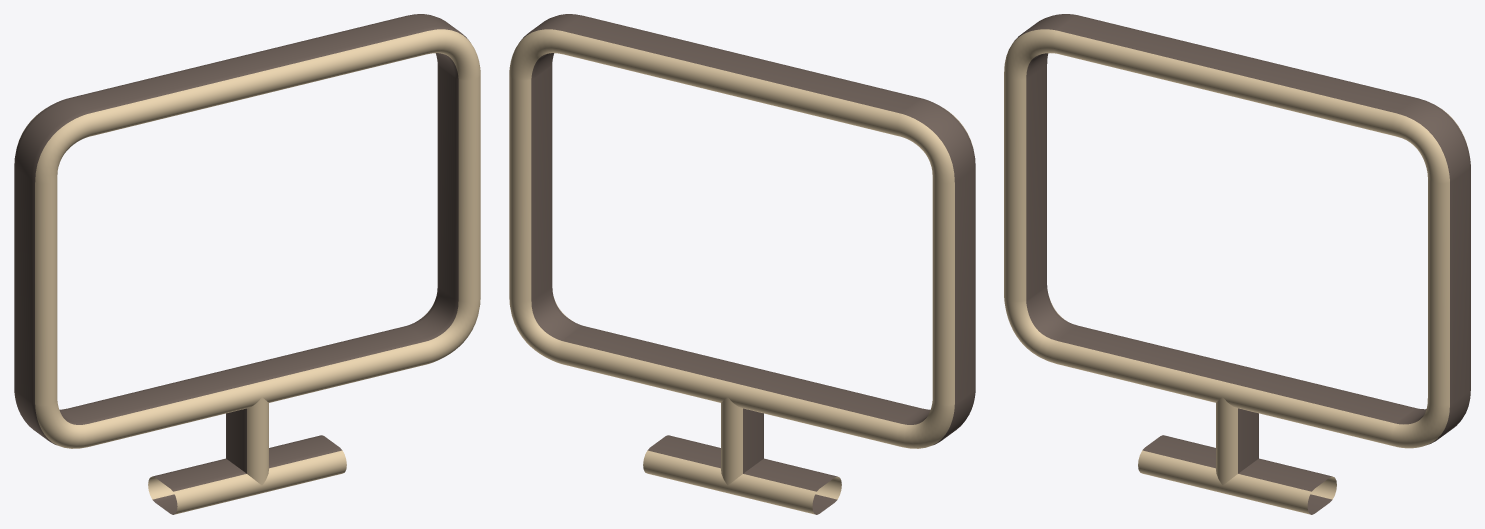
Rendered from desktop.glb.
The picture shows the model from 3 angles, left to right: view 1: azimuth 30°, elevation 25°; view 2: azimuth 150°, elevation 25°; view 3: azimuth 330°, elevation 25°; orthographic projection.
Parts seen in each view (by area): view 1: showcase_icon_desktop; view 2: showcase_icon_desktop; view 3: showcase_icon_desktop.
Part boxes in pixels (bbox=[...]): showcase_icon_desktop: bbox=[14, 14, 480, 514]; showcase_icon_desktop: bbox=[509, 14, 975, 514]; showcase_icon_desktop: bbox=[1004, 14, 1470, 514].
Size of the model in its own units: 1.1 by 1 by 0.1259.
